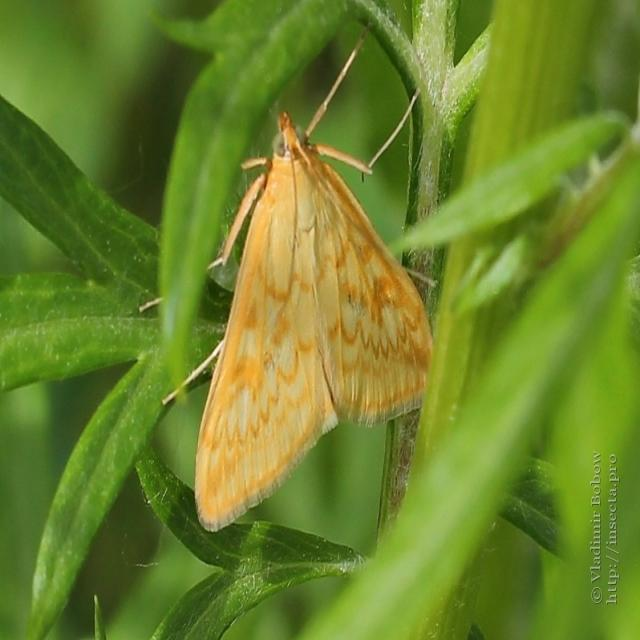cornborer-Adult-: (187, 38, 466, 540)
